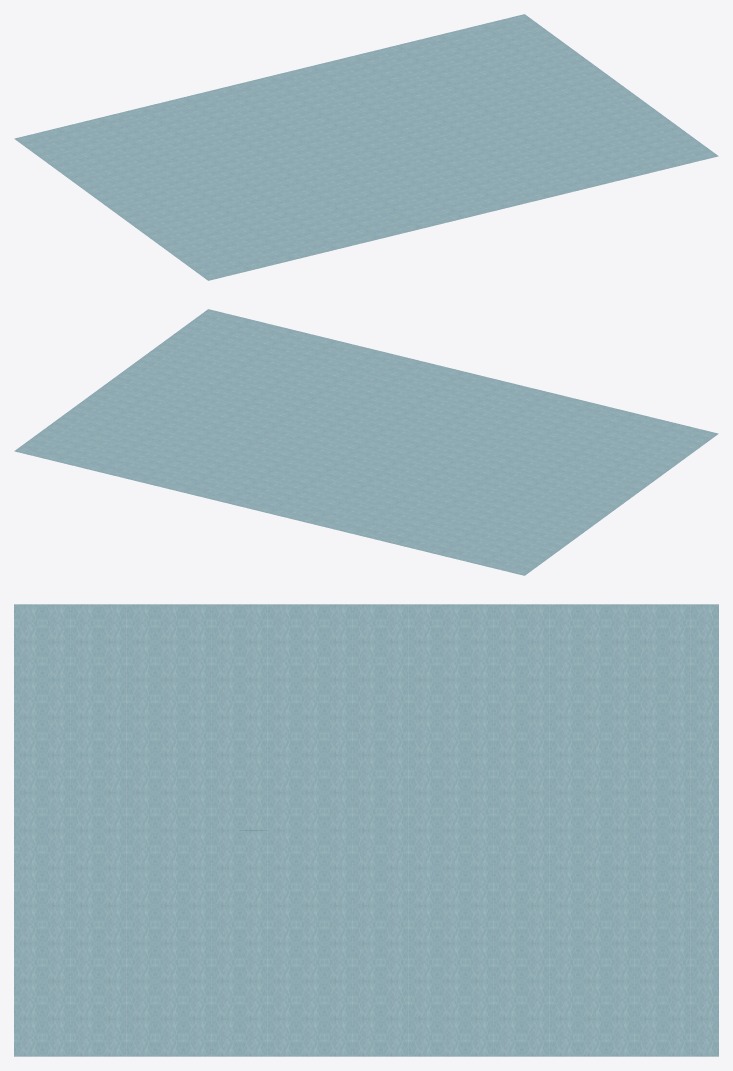
The model's file is huashengdun_shui.fbx.
The picture shows the model from 3 angles, top to bottom: view 1: azimuth 30°, elevation 25°; view 2: azimuth 150°, elevation 25°; view 3: azimuth 270°, elevation 25°; orthographic projection. The views are drawn at different scales.
Parts seen in each view (by area): view 1: 平面.003; view 2: 平面.003; view 3: 平面.003.
Boxes of the visible parts, x1,y1,x2,y2 form: 平面.003: [14, 14, 718, 280]; 平面.003: [14, 309, 718, 575]; 平面.003: [14, 604, 718, 1056].
Size of the model in its own units: 37934 by 0.00705 by 25000.
